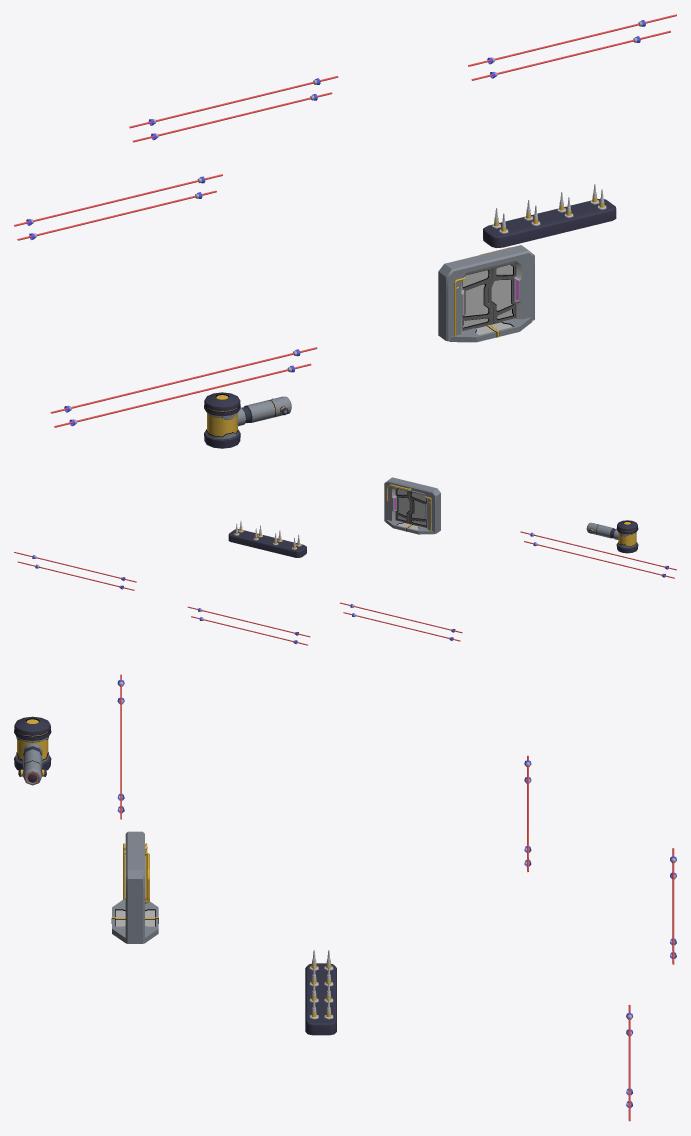
3 renders of one model, top to bottom at view 1: azimuth 30°, elevation 25°; view 2: azimuth 150°, elevation 25°; view 3: azimuth 270°, elevation 25°, orthographic. The views are drawn at different scales.
Visible parts, largest first — view 1: Base (×2), pCylinder13, Right, Left, Laser (×2), Base5, pCylinder14; view 2: Base (×2), pCylinder13, Right, Left, Base5, pCylinder14, Laser; view 3: Base (×2), pCylinder13, Base5, pCylinder14.
Boxes of the visible parts, x1,y1,x2,y2 form: Base (×2): (438, 199, 616, 341); pCylinder13: (204, 392, 240, 448); Right: (462, 268, 492, 330); Left: (488, 263, 515, 324); Laser (×2): (50, 347, 317, 427); Base5: (449, 317, 532, 342); pCylinder14: (237, 396, 291, 426); Base (×2): (228, 477, 440, 557); pCylinder13: (616, 520, 638, 553); Right: (409, 491, 426, 527); Left: (395, 488, 411, 523); Base5: (385, 519, 434, 534); pCylinder14: (586, 522, 618, 539); Laser: (520, 531, 676, 570); Base (×2): (125, 831, 336, 1035); pCylinder13: (14, 716, 51, 770); Base5: (111, 898, 158, 943); pCylinder14: (23, 743, 42, 785).
Size of the model in its own units: 537 by 44.8 by 348.
